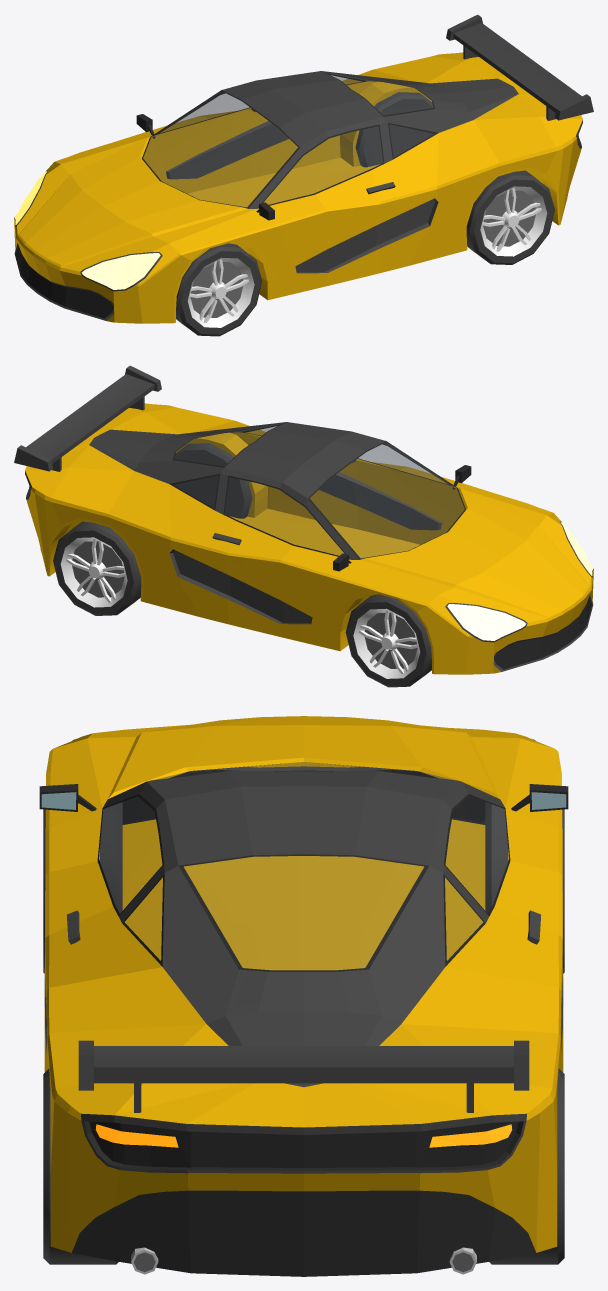
Rendered from sports-car.glb.
3 views of the same model, one above another, from view 1: azimuth 30°, elevation 25°; view 2: azimuth 150°, elevation 25°; view 3: azimuth 270°, elevation 25° (orthographic). The views are drawn at different scales.
Parts seen in each view (by area): view 1: Sport Car_39, Sport Car_39 BL Tire, Sport Car_39 FL Tire, Sport Car_39 BR Tire; view 2: Sport Car_39, Sport Car_39 BR Tire, Sport Car_39 FR Tire, Sport Car_39 BL Tire; view 3: Sport Car_39, Sport Car_39 FL Tire, Sport Car_39 FR Tire, Sport Car_39 BL Tire, Sport Car_39 BR Tire.
Boxes of the visible parts, x1,y1,x2,y2 form: Sport Car_39: (14,14,593,323); Sport Car_39 BL Tire: (466,170,554,264); Sport Car_39 FL Tire: (176,243,262,336); Sport Car_39 BR Tire: (355,92,433,167); Sport Car_39: (14,365,593,674); Sport Car_39 BR Tire: (53,521,141,615); Sport Car_39 FR Tire: (345,594,431,687); Sport Car_39 BL Tire: (174,443,252,518); Sport Car_39: (39,716,568,1276); Sport Car_39 FL Tire: (43,802,122,973); Sport Car_39 FR Tire: (485,802,564,973); Sport Car_39 BL Tire: (43,1068,118,1264); Sport Car_39 BR Tire: (489,1068,564,1264).
Bounding box in the file's own units: 4.57 × 1.32 × 2.02.
3 materials, 2 textured.
